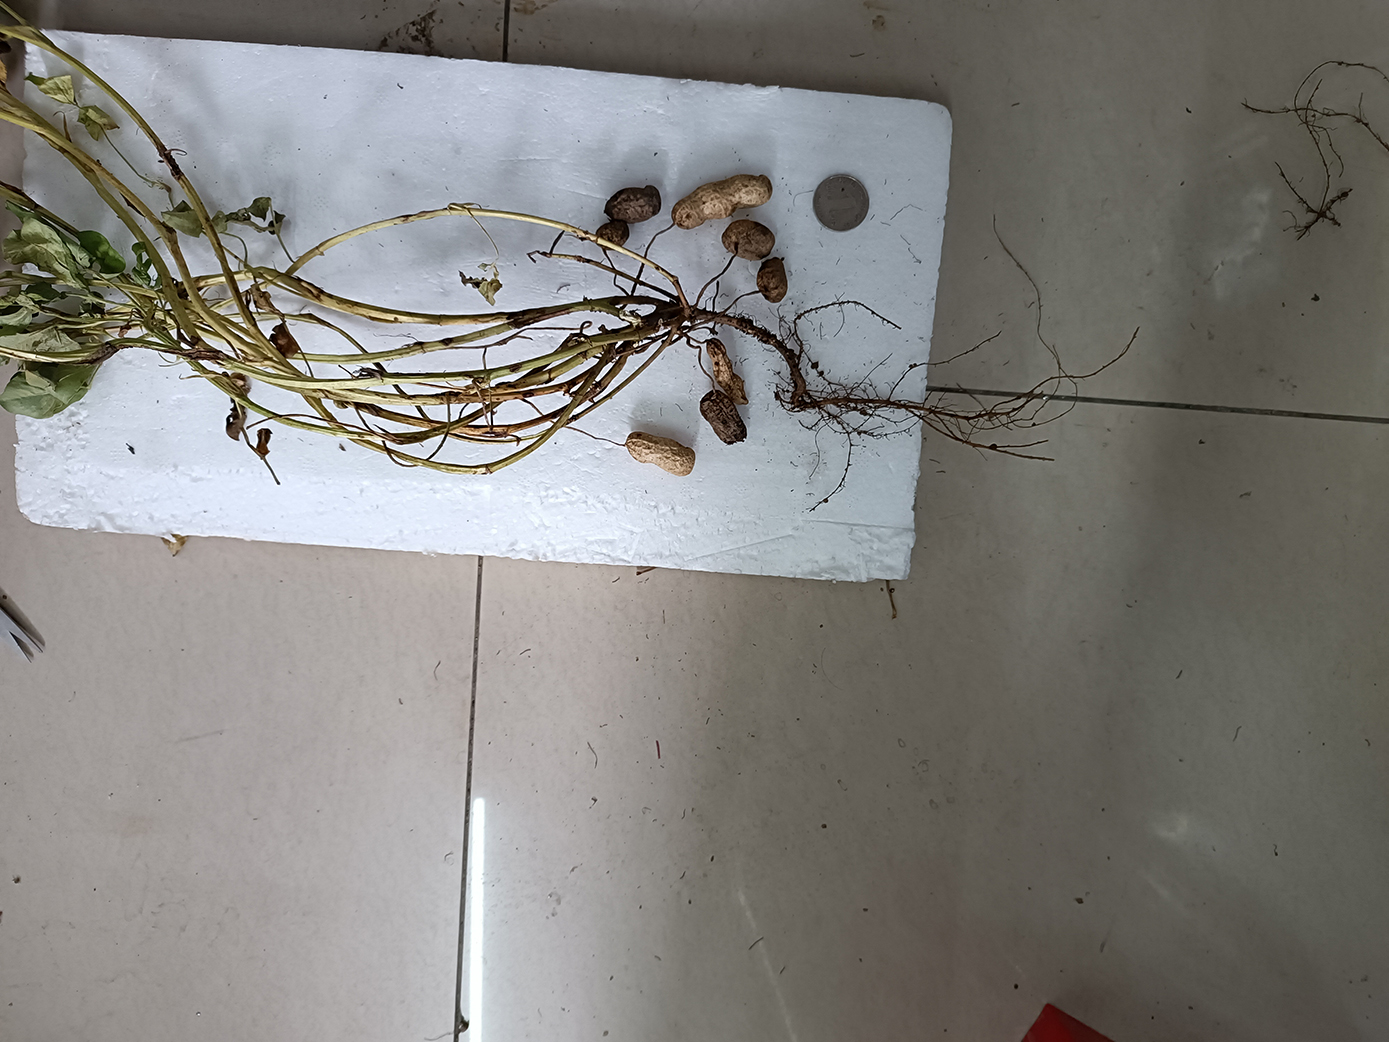h: (672, 173, 773, 228), (627, 432, 695, 476)
l: (707, 338, 750, 405), (701, 392, 748, 444), (603, 185, 662, 222), (721, 220, 775, 259), (759, 259, 790, 302), (595, 222, 630, 252)
